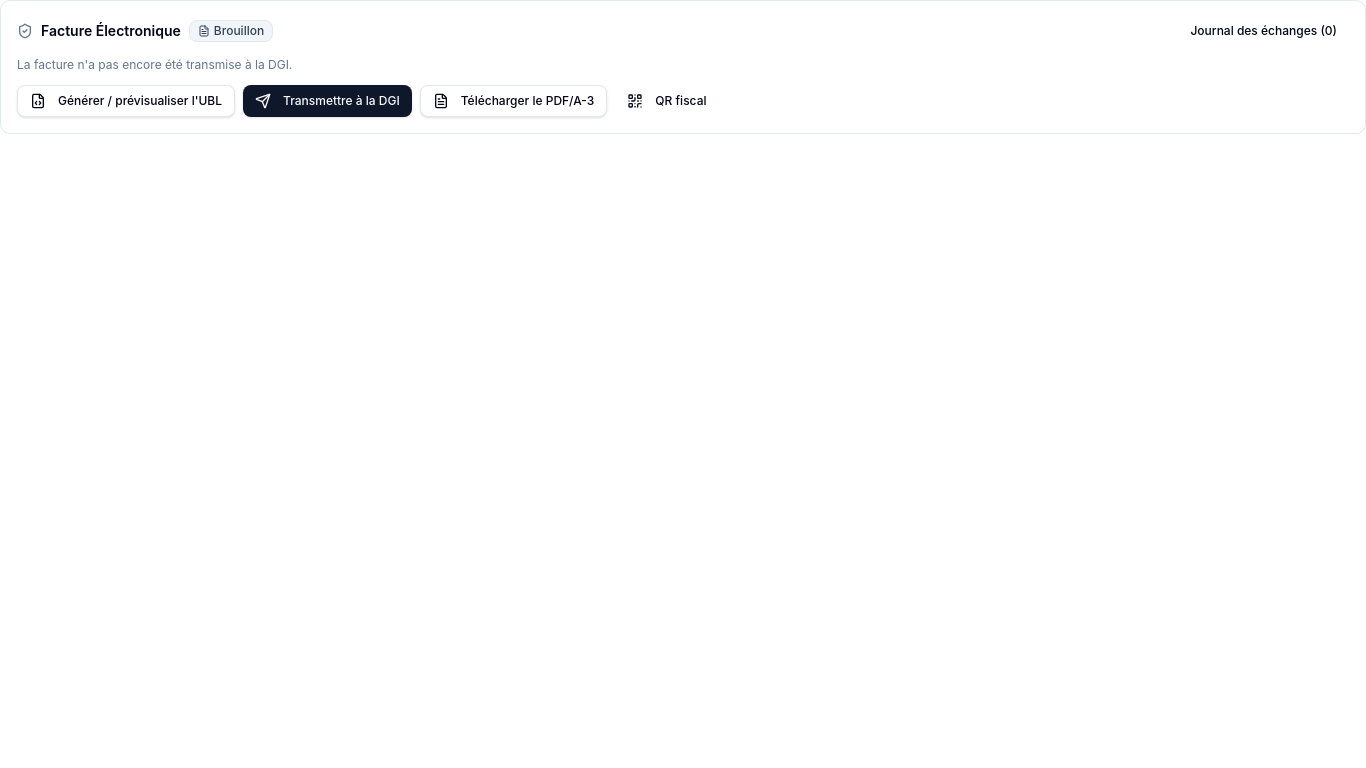
Test: FactureElectroniquePanel — retours d'action › ouvre l'aperçu du XML après une génération réussie
The image size is (1366, 768).
Click the button "Générer / prévisualiser l'UBL" at [126, 101], box [17, 85, 235, 117]
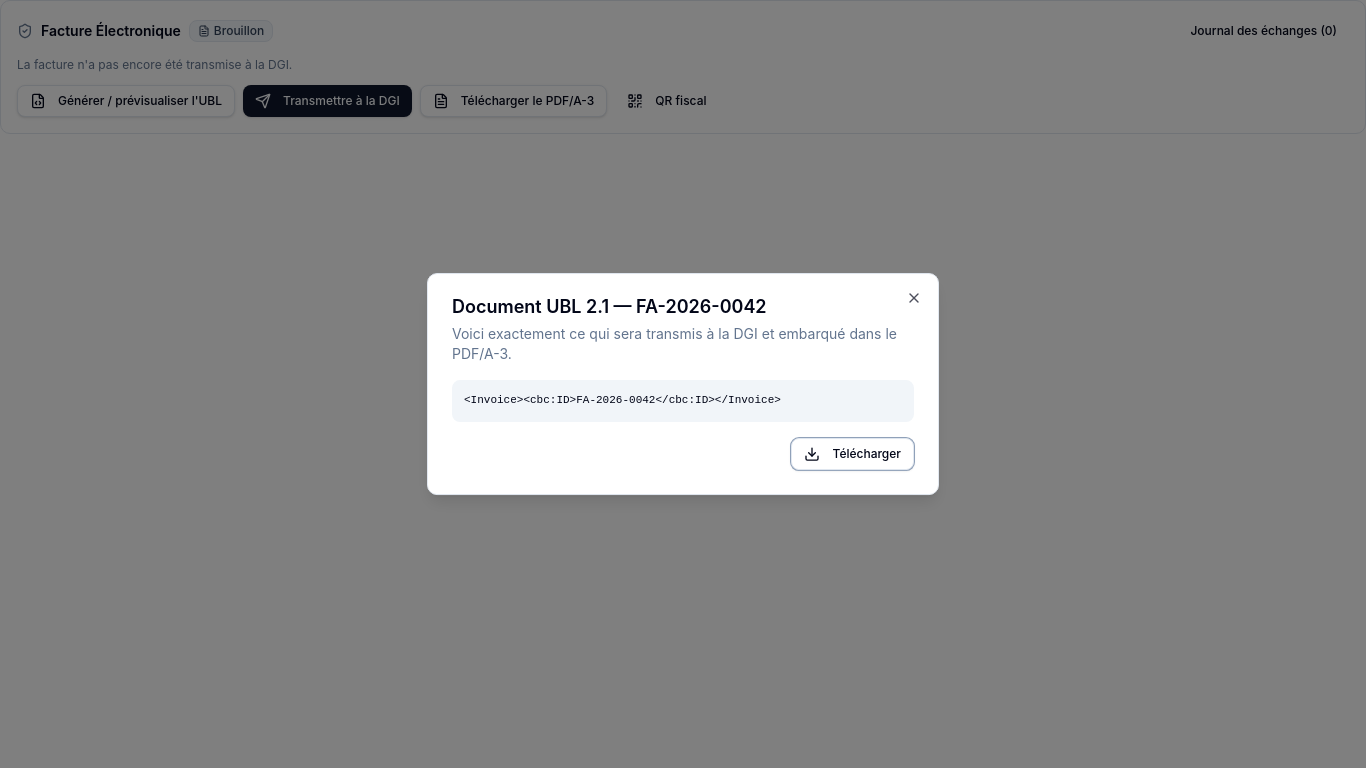
Check: the heading "Document UBL 2.1 — FA-2026-0042" is shown, box [452, 296, 767, 317]
Check: the text "Voici exactement ce qui sera transmis" is shown, box [452, 325, 897, 362]
